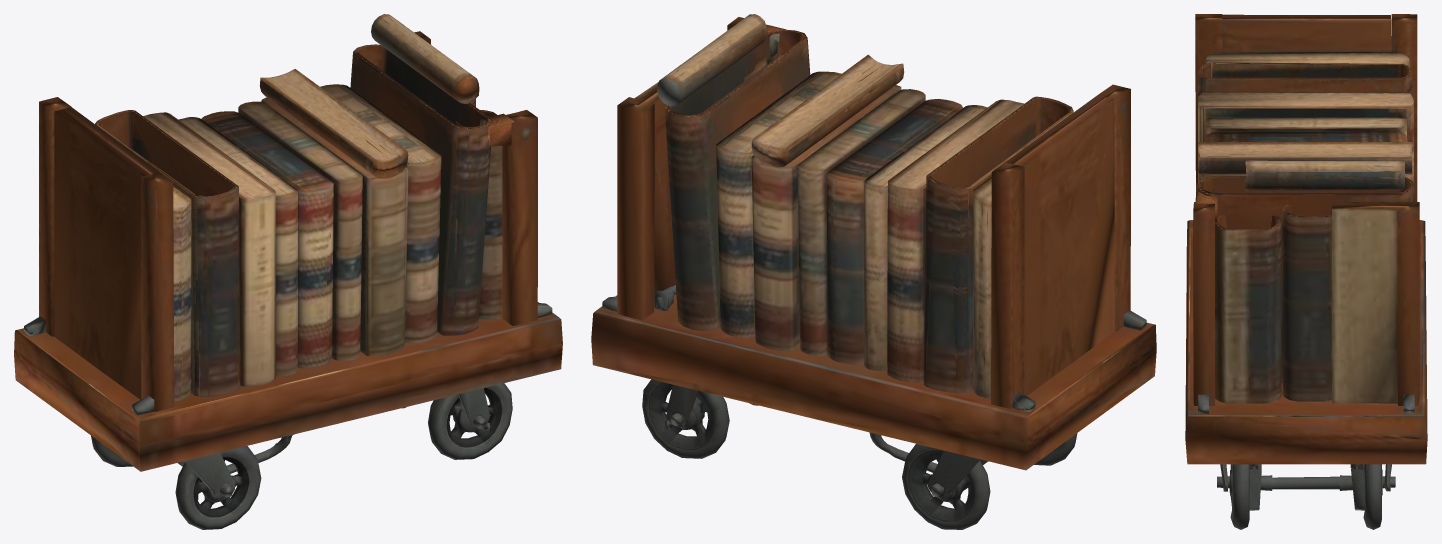
Rendered from book_cart.glb.
The picture shows the model from 3 angles, left to right: view 1: azimuth 30°, elevation 25°; view 2: azimuth 150°, elevation 25°; view 3: azimuth 270°, elevation 25°; orthographic projection. The views are drawn at different scales.
Size of the model in its own units: 1 by 0.8643 by 0.5212.
1 material, 1 textured.
